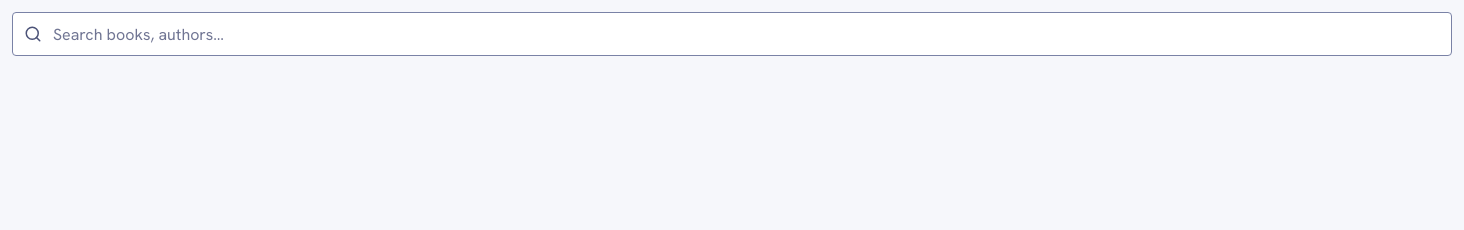
LiveSearch › says when nothing matches
This screenshot has width=1464, height=230.
Type "zzz" into the dropdown labelled "Search books".
click(732, 34); type("zzz")  # box [12,12,1452,56]
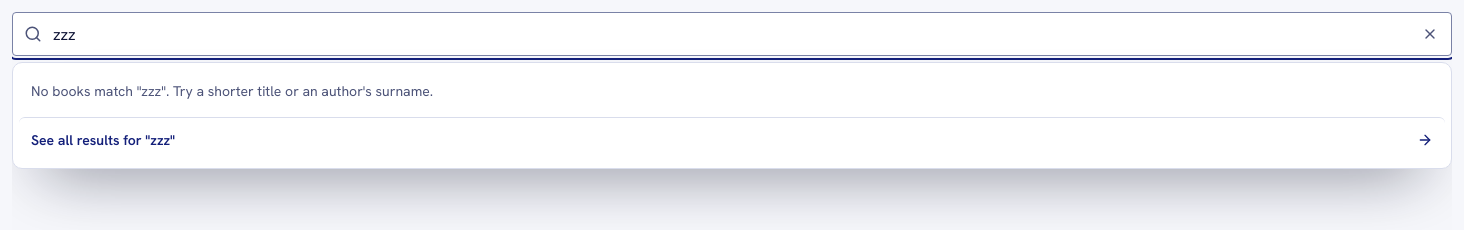
Expected: the option "No books match \"zzz\"" is shown, [31,82,433,100]
